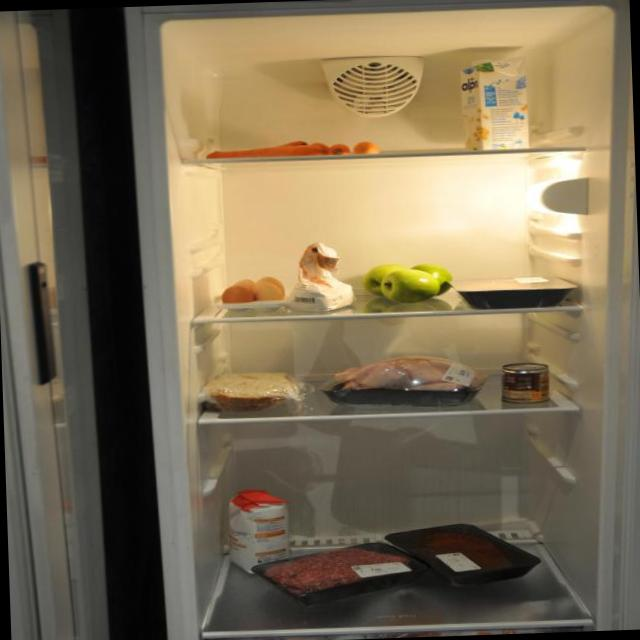Carne pollo: (325, 349, 477, 406)
Carne vacuno: (406, 525, 535, 572)
Huevos: (222, 273, 283, 308)
Leche: (459, 56, 538, 154)
Manzana: (364, 261, 454, 305)
Zanahoria: (204, 134, 384, 164)
